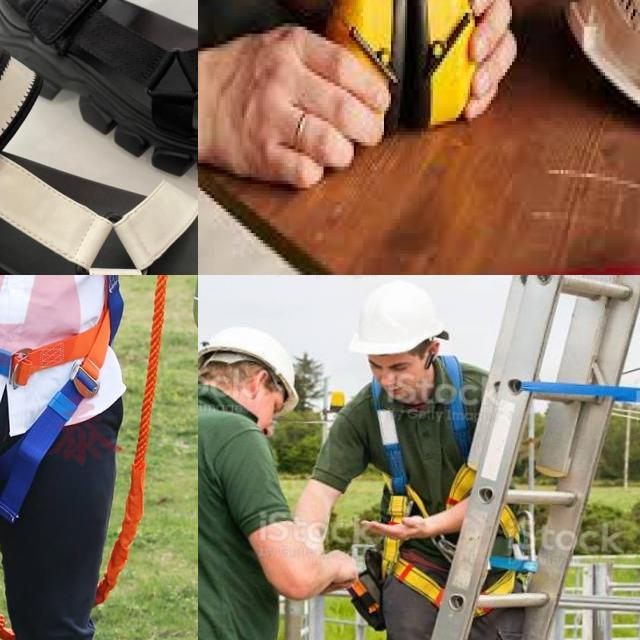Ear-protection: (402, 0, 477, 128), (323, 0, 400, 124)
Harness: (371, 353, 532, 626), (0, 275, 126, 537)
Sandals: (0, 8, 198, 275), (0, 0, 198, 197)
